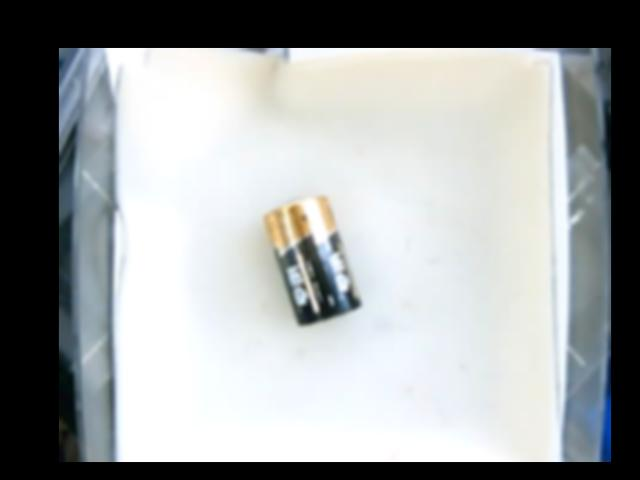Battery: (262, 198, 364, 329)
